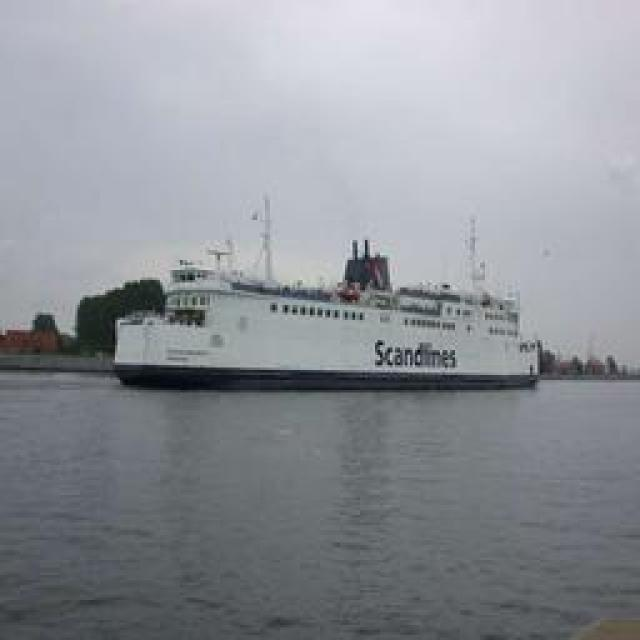CIV_Ship: (110, 201, 538, 394)
